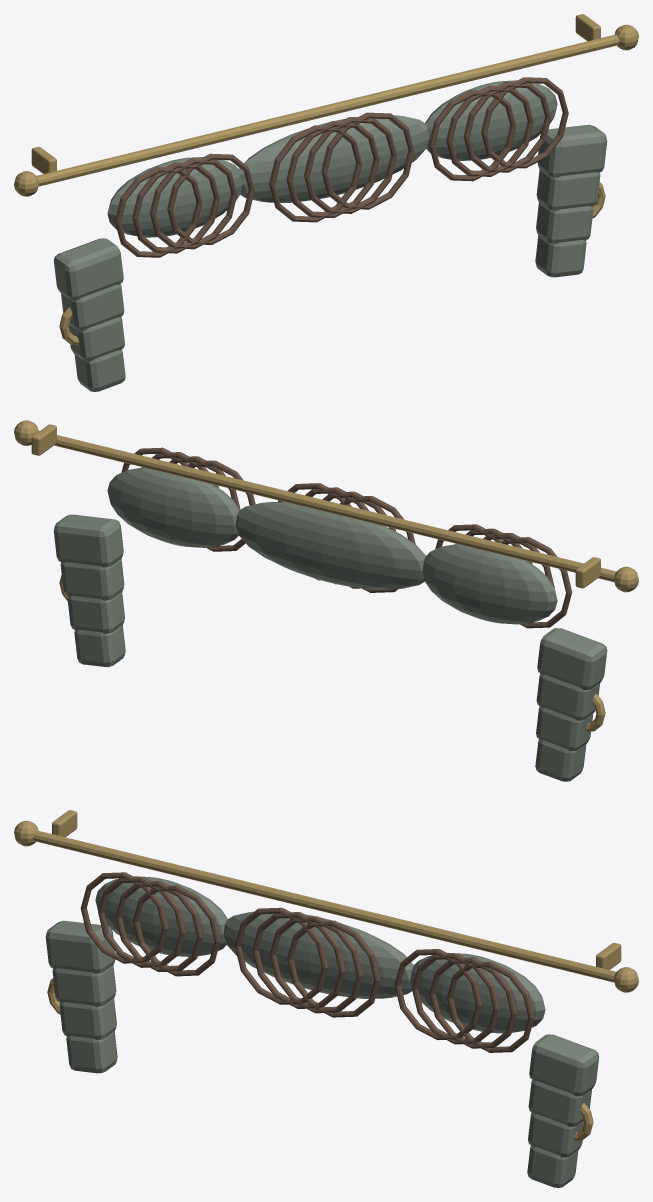
The picture shows the model from 3 angles, top to bottom: view 1: azimuth 30°, elevation 25°; view 2: azimuth 150°, elevation 25°; view 3: azimuth 330°, elevation 25°; orthographic projection.
Parts seen in each view (by area): view 1: curtainSwag; view 2: curtainSwag; view 3: curtainSwag.
Part boxes in pixels (x1=…): curtainSwag: x1=14, y1=14, x2=638, y2=391; curtainSwag: x1=14, y1=420, x2=638, y2=781; curtainSwag: x1=14, y1=810, x2=638, y2=1187.
Bounding box in the file's own units: 1.78 × 0.6365 × 0.188.
